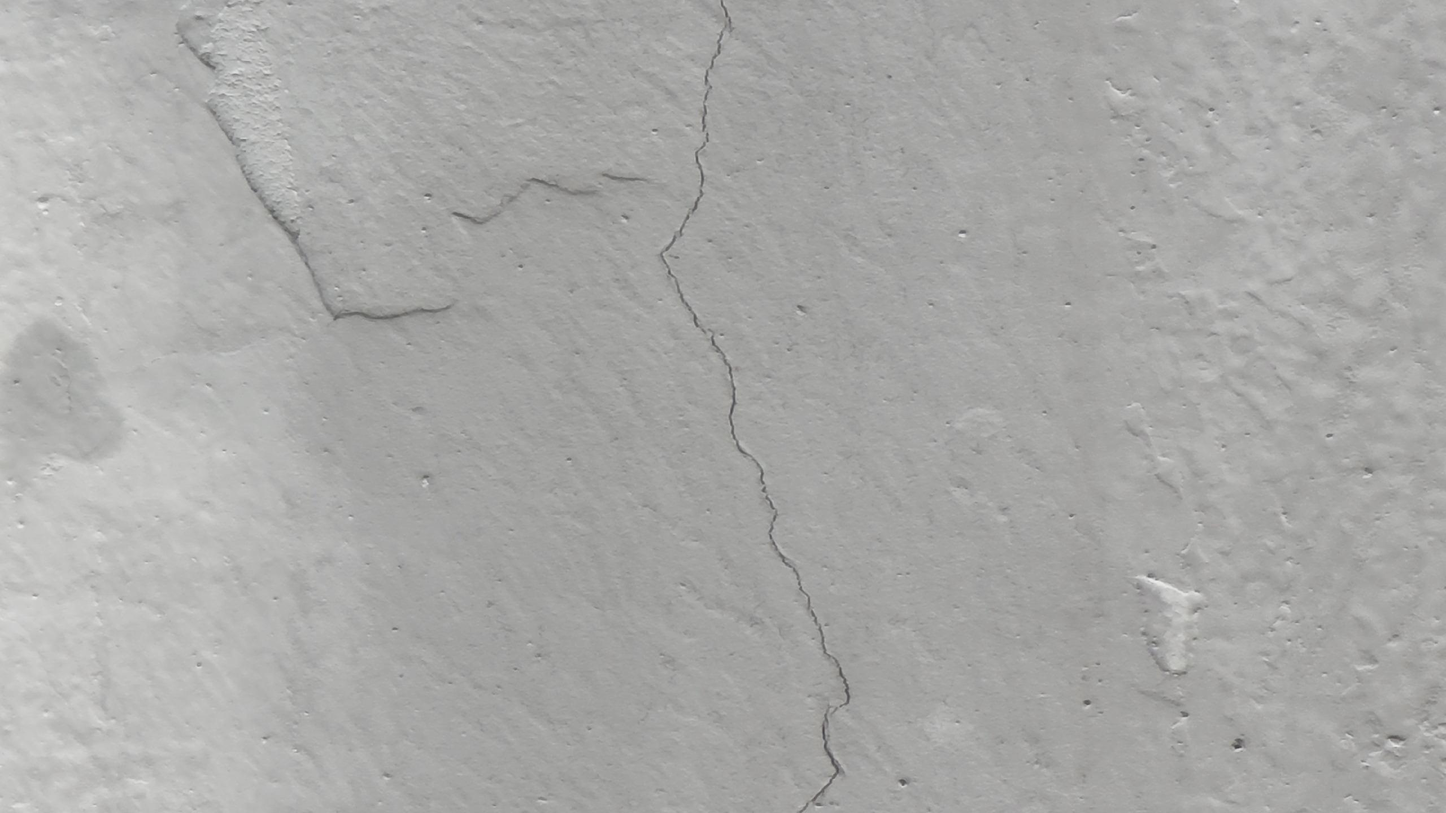crack: (652, 0, 855, 807)
